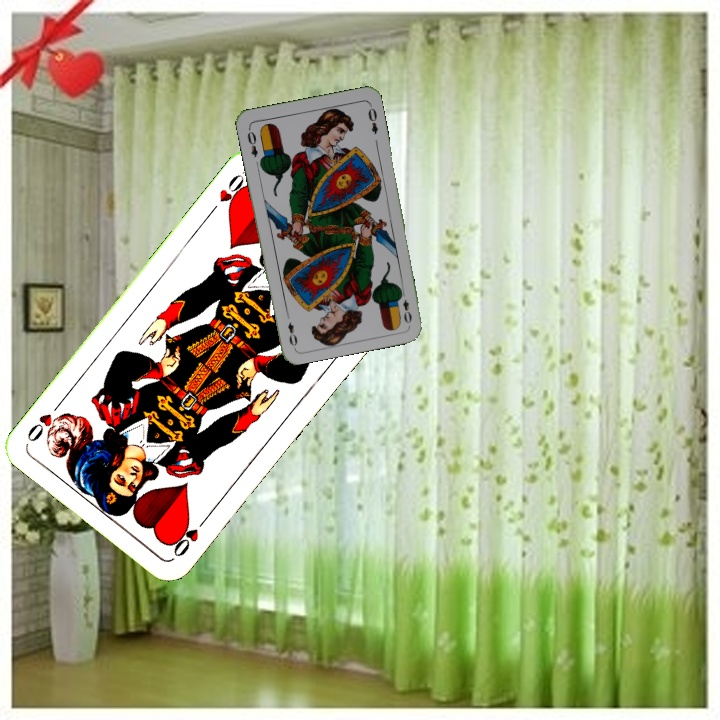EO: (396, 286, 414, 326), (243, 124, 260, 160)
HO: (205, 168, 251, 218), (168, 511, 212, 560)
